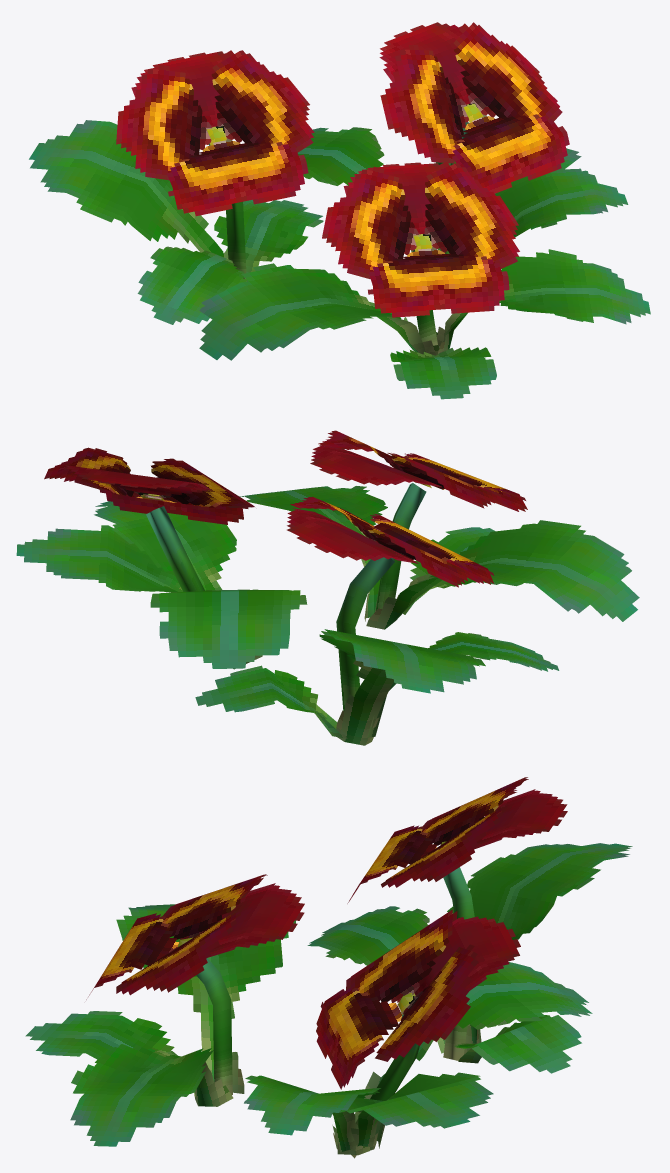
The model's file is orange-pansies.glb.
The picture shows the model from 3 angles, top to bottom: view 1: azimuth 30°, elevation 25°; view 2: azimuth 150°, elevation 25°; view 3: azimuth 270°, elevation 25°; orthographic projection. The views are drawn at different scales.
Size of the model in its own units: 10.83 by 4.92 by 10.68.
Materials: 2 (2 with a texture image).
